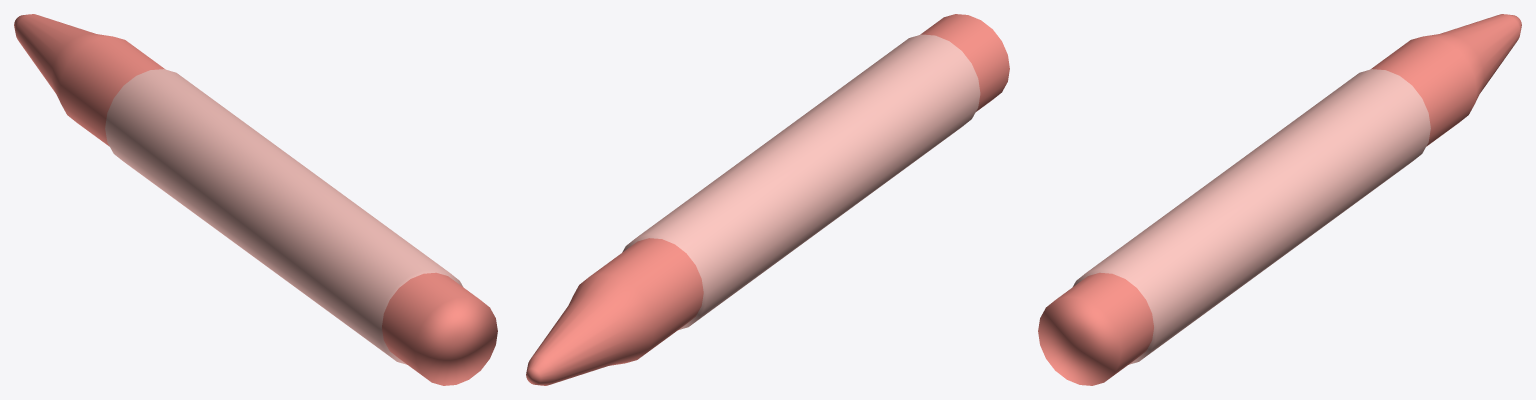
File: TanksCrayon.glb
3 renders of one model, left to right at view 1: azimuth 30°, elevation 25°; view 2: azimuth 150°, elevation 25°; view 3: azimuth 330°, elevation 25°, orthographic.
Parts seen in each view (by area): view 1: Wrapper, Wax; view 2: Wrapper, Wax; view 3: Wrapper, Wax.
Boxes of the visible parts, bbox=[...] form: Wrapper: bbox=[105, 69, 462, 364]; Wax: bbox=[14, 14, 497, 385]; Wrapper: bbox=[622, 34, 980, 329]; Wax: bbox=[526, 14, 1009, 385]; Wrapper: bbox=[1073, 69, 1430, 364]; Wax: bbox=[1038, 14, 1521, 385].
Size of the model in its own units: 1.9 by 1.9 by 15.95.
